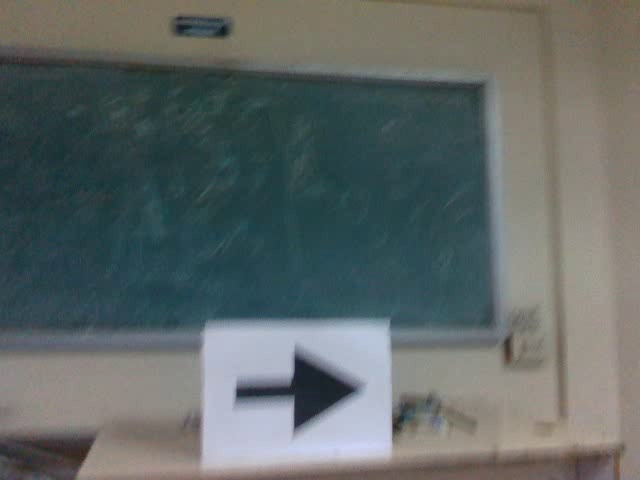Right: (230, 341, 370, 443)
